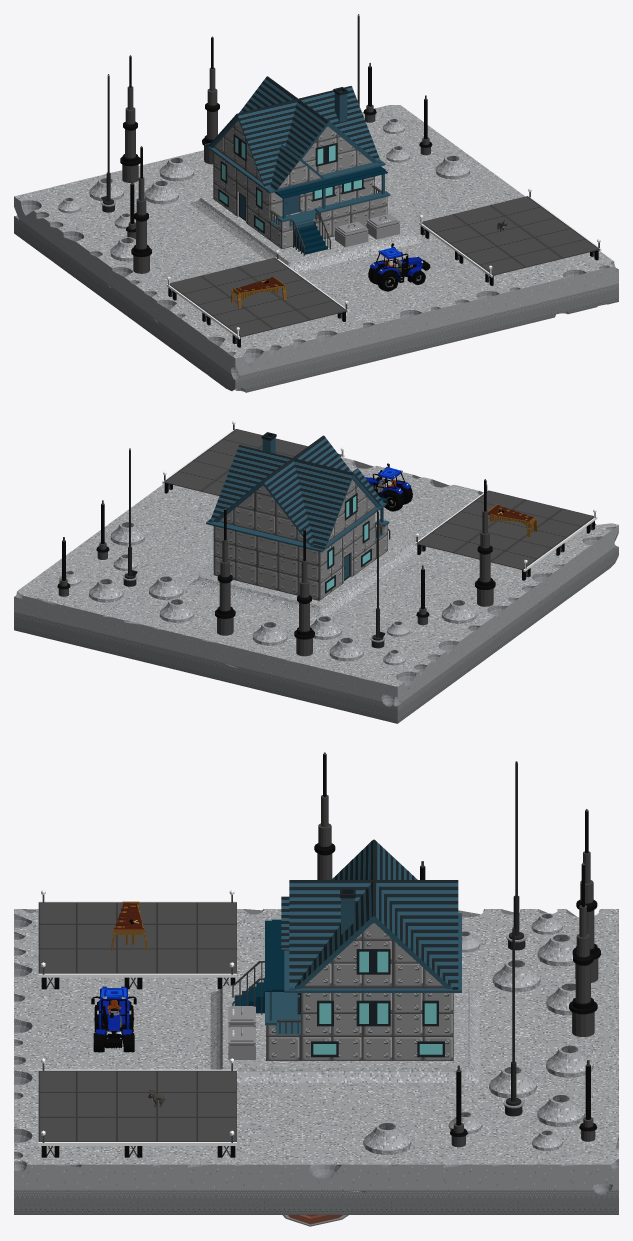
The picture shows the model from 3 angles, top to bottom: view 1: azimuth 30°, elevation 25°; view 2: azimuth 150°, elevation 25°; view 3: azimuth 270°, elevation 25°; orthographic projection. The views are drawn at different scales.
Parts seen in each view (by area): view 1: Cube.027, Cube.078, Cube.026, Cube.025, Cube.028, VEHICLES_TRACTOR, Cylinder.021, Cylinder.020, Cylinder.017, OBJRANDOM_MARIMBA, Cube.029, Cube.030 (+5 smaller); view 2: Cube.027, Cube.078, Cube.025, Cube.028, Cube.026, Cylinder.020, Cylinder.017, Cylinder.021, VEHICLES_TRACTOR, OBJRANDOM_MARIMBA, Cylinder.029, Cylinder.025 (+8 smaller); view 3: Cube.027, Cube.078, Cube.026, Cube.025, Cube.028, VEHICLES_TRACTOR, Cylinder.017, Cylinder.020, Cylinder.021, Cylinder.033, Cylinder.031, Cylinder.029 (+10 smaller).
Boxes of the visible parts, bbox=[...] form: Cube.027: bbox=[14, 105, 618, 392]; Cube.078: bbox=[204, 76, 390, 255]; Cube.026: bbox=[419, 188, 601, 285]; Cube.025: bbox=[166, 250, 348, 347]; Cube.028: bbox=[190, 194, 422, 272]; VEHICLES_TRACTOR: bbox=[368, 243, 430, 291]; Cylinder.021: bbox=[131, 146, 151, 273]; Cylinder.020: bbox=[120, 55, 140, 182]; Cylinder.017: bbox=[202, 36, 219, 164]; OBJRANDOM_MARIMBA: bbox=[231, 276, 286, 307]; Cube.029: bbox=[335, 221, 368, 247]; Cube.030: bbox=[366, 214, 399, 239]; Cube.027: bbox=[14, 458, 618, 723]; Cube.078: bbox=[206, 432, 390, 600]; Cube.025: bbox=[415, 483, 597, 580]; Cube.028: bbox=[189, 535, 417, 617]; Cube.026: bbox=[162, 421, 344, 495]; Cylinder.020: bbox=[294, 528, 314, 656]; Cylinder.017: bbox=[215, 508, 235, 635]; Cylinder.021: bbox=[475, 479, 495, 606]; VEHICLES_TRACTOR: bbox=[365, 463, 412, 511]; OBJRANDOM_MARIMBA: bbox=[488, 504, 537, 536]; Cylinder.029: bbox=[159, 598, 194, 622]; Cylinder.025: bbox=[441, 599, 476, 623]; Cube.027: bbox=[14, 909, 618, 1214]; Cube.078: bbox=[232, 839, 461, 1060]; Cube.026: bbox=[38, 1058, 236, 1157]; Cube.025: bbox=[38, 890, 236, 989]; Cube.028: bbox=[210, 985, 479, 1082]; VEHICLES_TRACTOR: bbox=[91, 986, 136, 1052]; Cylinder.017: bbox=[569, 862, 597, 1036]; Cylinder.020: bbox=[572, 809, 600, 982]; Cylinder.021: bbox=[314, 752, 335, 879]; Cylinder.033: bbox=[363, 1122, 411, 1154]; Cylinder.031: bbox=[537, 1094, 584, 1126]; Cylinder.029: bbox=[546, 1044, 593, 1077].
Size of the model in its own units: 4000 by 2515 by 4000.
Materials: 39 (6 with a texture image).
